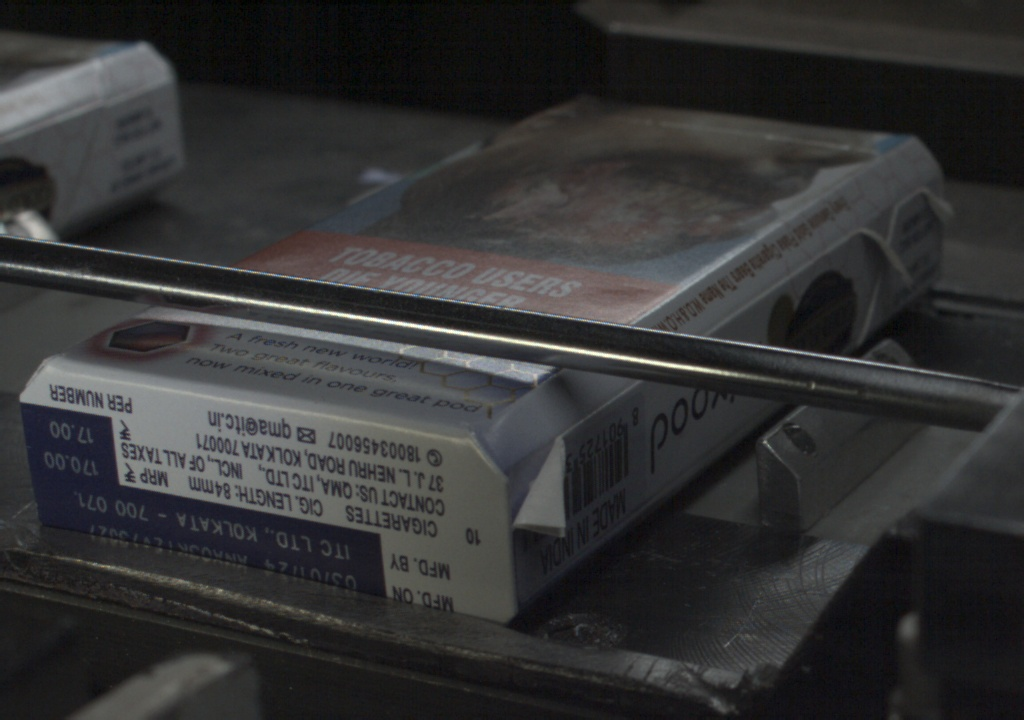g_bottom: (19, 360, 518, 620)
g_label: (32, 481, 390, 596)
g_lmiter: (764, 245, 831, 299), (580, 385, 637, 429), (705, 295, 765, 332)
ng_lmiter: (509, 436, 579, 535), (857, 224, 910, 285)
ng_miter: (912, 181, 967, 232)
price: (25, 411, 118, 479)
